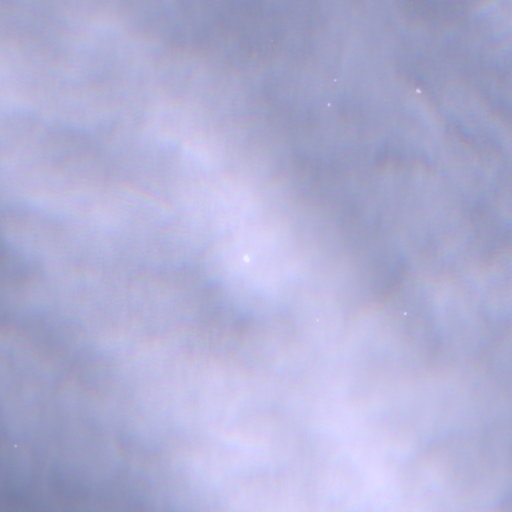Iceberg: (244, 255, 249, 261), (416, 89, 421, 92), (334, 79, 336, 81), (404, 312, 406, 314), (14, 445, 16, 447), (328, 103, 329, 106)
